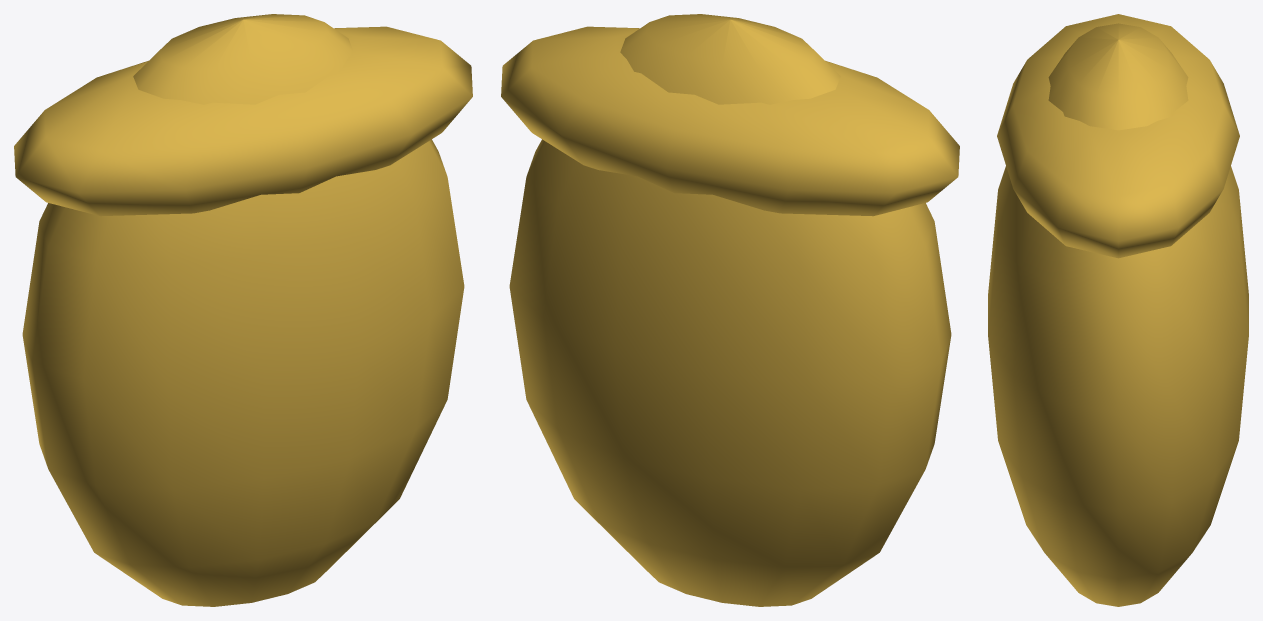
The model's file is chest.obj.
The picture shows the model from 3 angles, left to right: view 1: azimuth 30°, elevation 25°; view 2: azimuth 150°, elevation 25°; view 3: azimuth 270°, elevation 25°; orthographic projection. The views are drawn at different scales.
Visible parts, largest first — view 1: chest; view 2: chest; view 3: chest.
Boxes of the visible parts, left/top/right/bottom form: chest: left=14, top=14, right=472, bottom=606; chest: left=501, top=14, right=959, bottom=606; chest: left=988, top=14, right=1248, bottom=606.
Size of the model in its own units: 0.2249 by 0.2743 by 0.1177.
